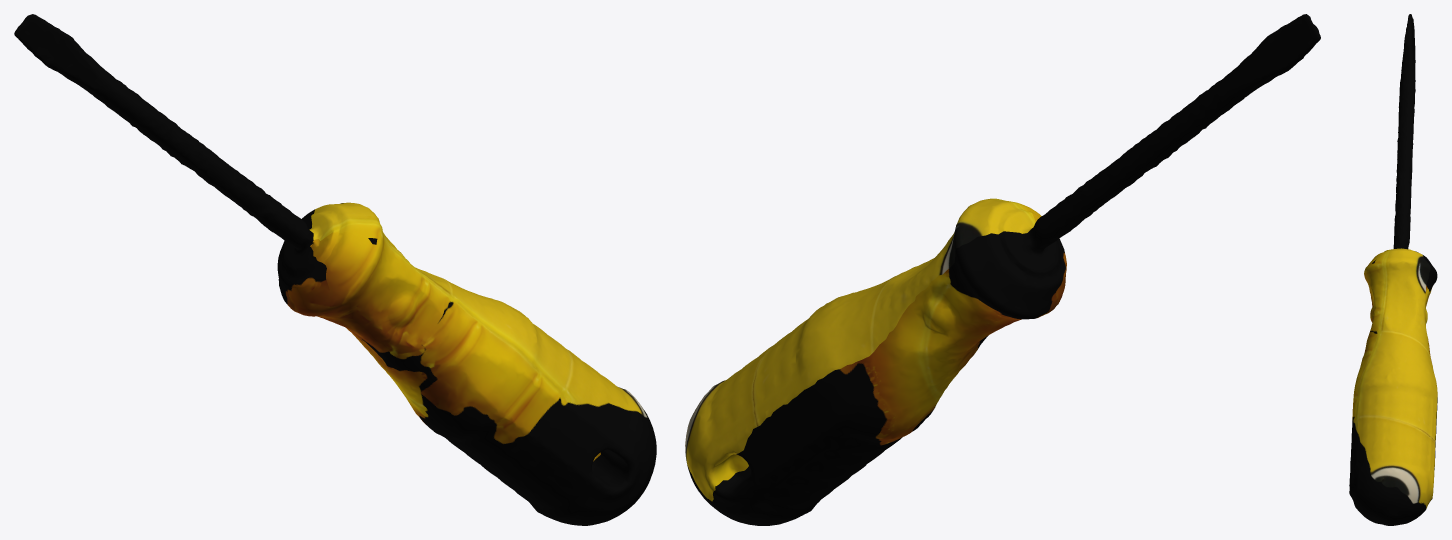
3 renders of one model, left to right at view 1: azimuth 30°, elevation 25°; view 2: azimuth 150°, elevation 25°; view 3: azimuth 270°, elevation 25°, orthographic. The views are drawn at different scales.
Bounding box in the file's own units: 0.1619 × 0.1569 × 0.035.
